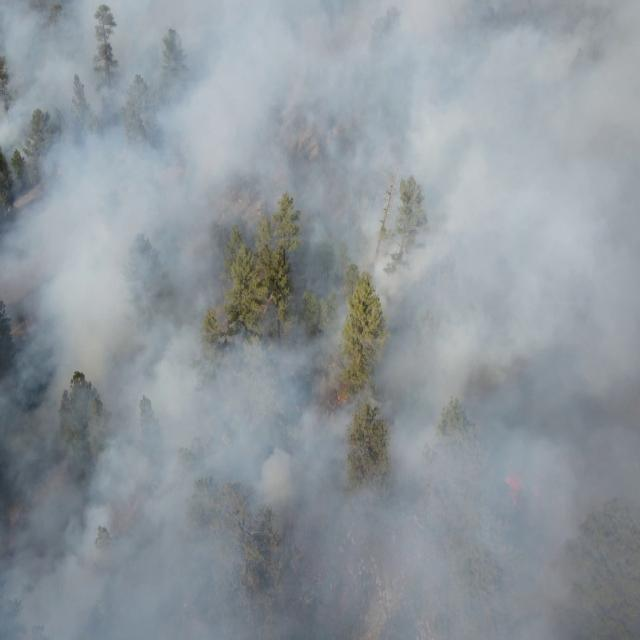fire: (529, 478, 547, 513), (504, 475, 524, 504), (334, 389, 352, 413)
smoke: (0, 1, 640, 640)
